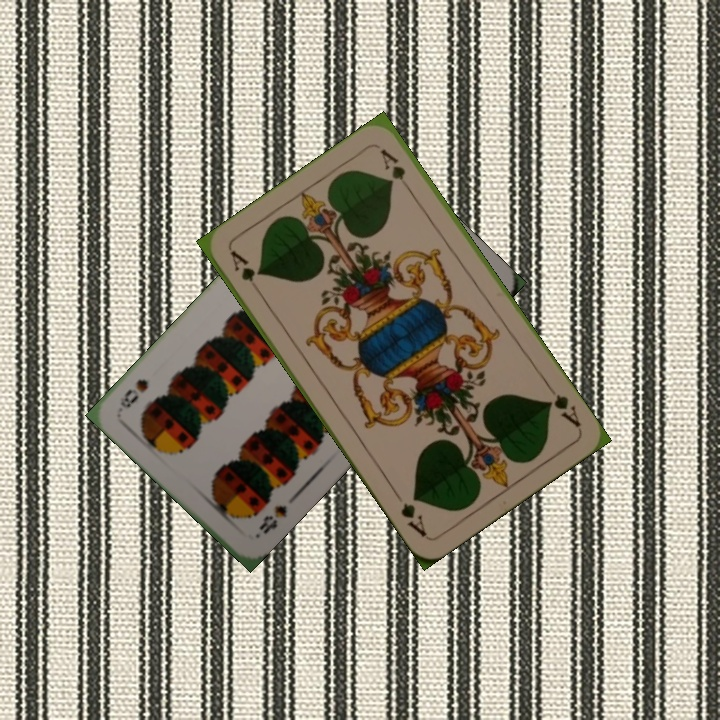GA: (542, 380, 583, 431), (225, 246, 258, 284)
S8: (255, 501, 290, 537)
